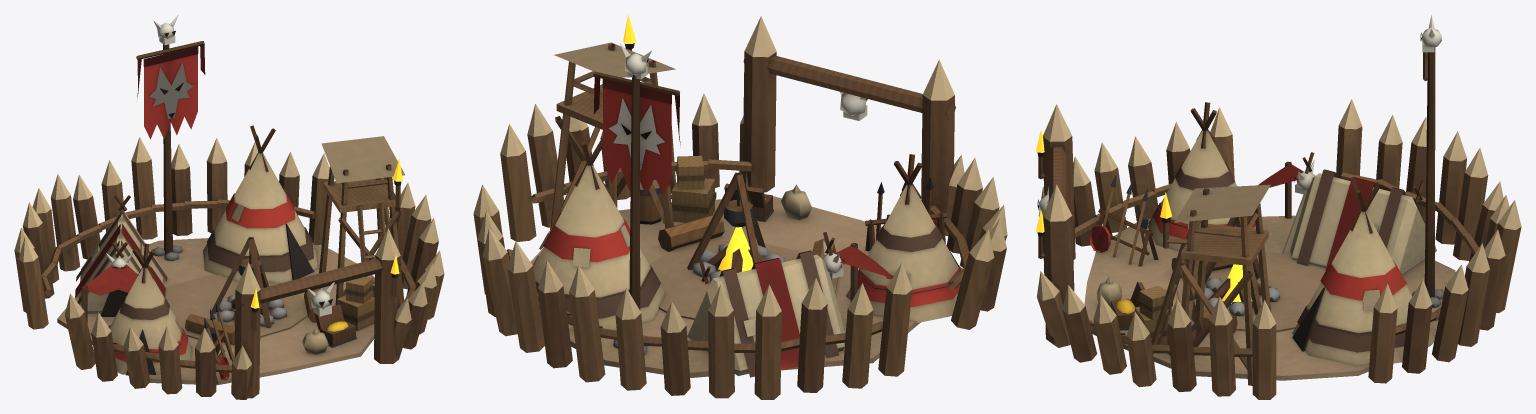
File: raider_camp.glb
3 renders of one model, left to right at view 1: azimuth 30°, elevation 25°; view 2: azimuth 150°, elevation 25°; view 3: azimuth 270°, elevation 25°, orthographic. The views are drawn at different scales.
Visible parts, largest first — view 1: raider_camp; view 2: raider_camp; view 3: raider_camp.
Boxes of the visible parts, <box> form: raider_camp: <box>14,14,444,399</box>; raider_camp: <box>473,14,1007,399</box>; raider_camp: <box>1036,14,1521,399</box>.
Size of the model in its own units: 1.49 by 0.9526 by 1.47.
3 materials, 1 textured.
